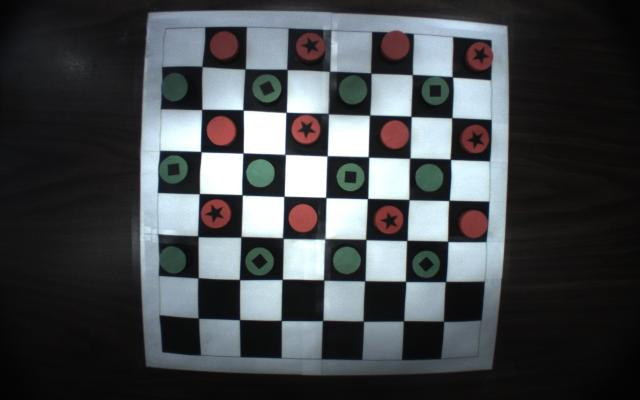G: (248, 71, 285, 107), (156, 152, 192, 188), (240, 244, 276, 279), (418, 74, 454, 108), (334, 158, 368, 194), (409, 247, 443, 281)
R: (457, 120, 493, 157), (288, 112, 324, 148), (462, 37, 496, 74), (293, 29, 328, 63), (199, 197, 234, 231), (373, 203, 406, 238)
g: (158, 69, 193, 106), (242, 155, 277, 191), (336, 72, 370, 108), (328, 244, 364, 278), (412, 160, 446, 194), (157, 242, 190, 277)
r: (377, 116, 412, 154), (379, 27, 414, 64), (203, 112, 240, 146), (205, 28, 241, 62), (285, 201, 321, 235), (455, 206, 491, 240)
